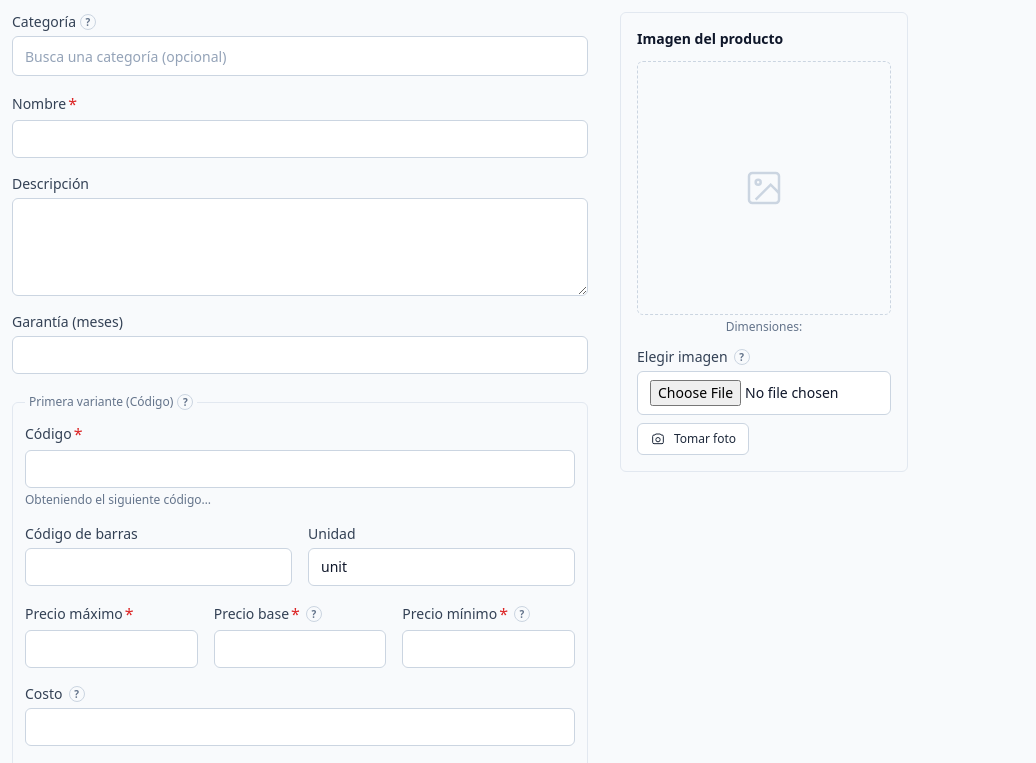
Scenario: Precio base / mínimo legends › puts the "needs approval" legend on the base price, not on the minimum
What coordinates should you click on to do the following:
click the button named "Ayuda"
I would click on:
 (314, 614)
Its box is x1=306 y1=606 x2=322 y2=622.
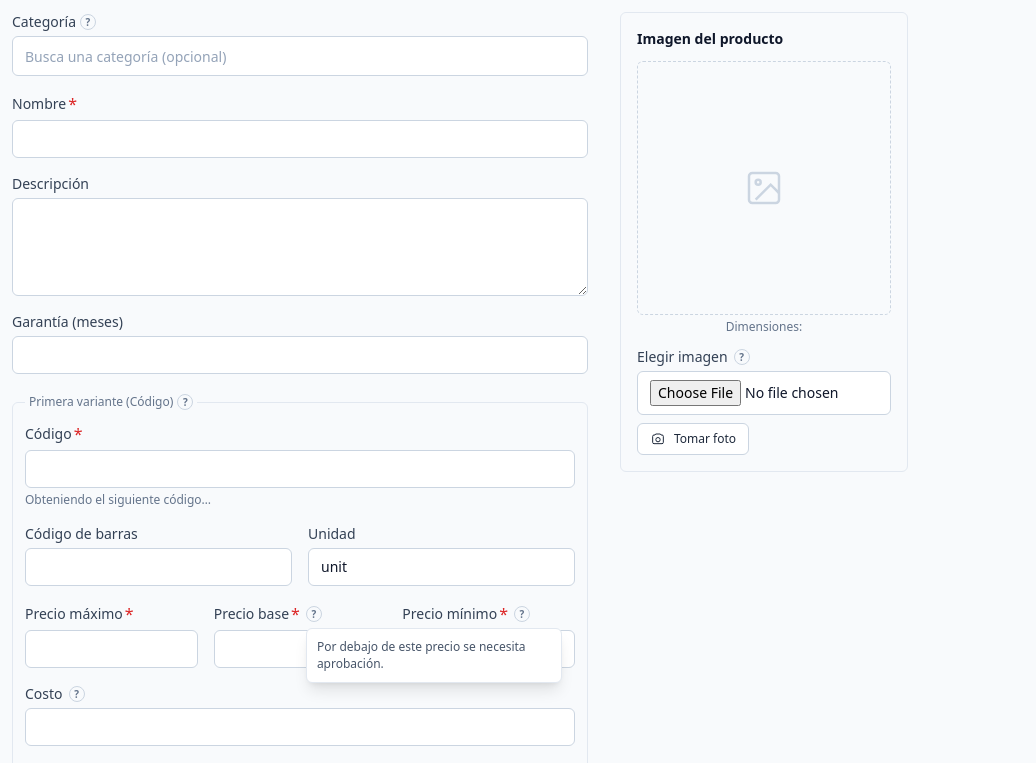
Expected: the element labelled "Precio mínimo * ?" does not show "necesita aprobación", x1=402 y1=602 x2=575 y2=668
Result: the element labelled "Precio base" shows "Por debajo de este precio se necesita aprobación." at x1=317 y1=638 x2=526 y2=672
What coordinates should you click on to do the following:
click the button named "Ayuda"
I would click on:
 (522, 614)
Its box is x1=514 y1=606 x2=530 y2=622.
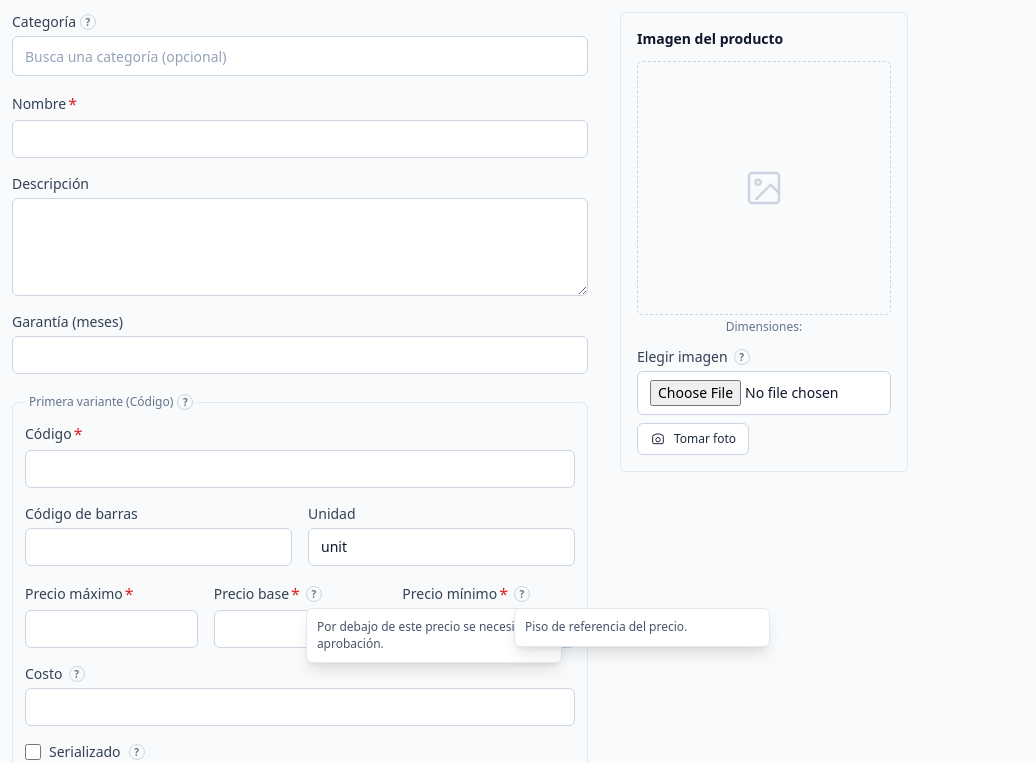
Result: the element labelled "Precio mínimo * ? Piso de referencia del precio." is shown at x1=402 y1=582 x2=575 y2=648
